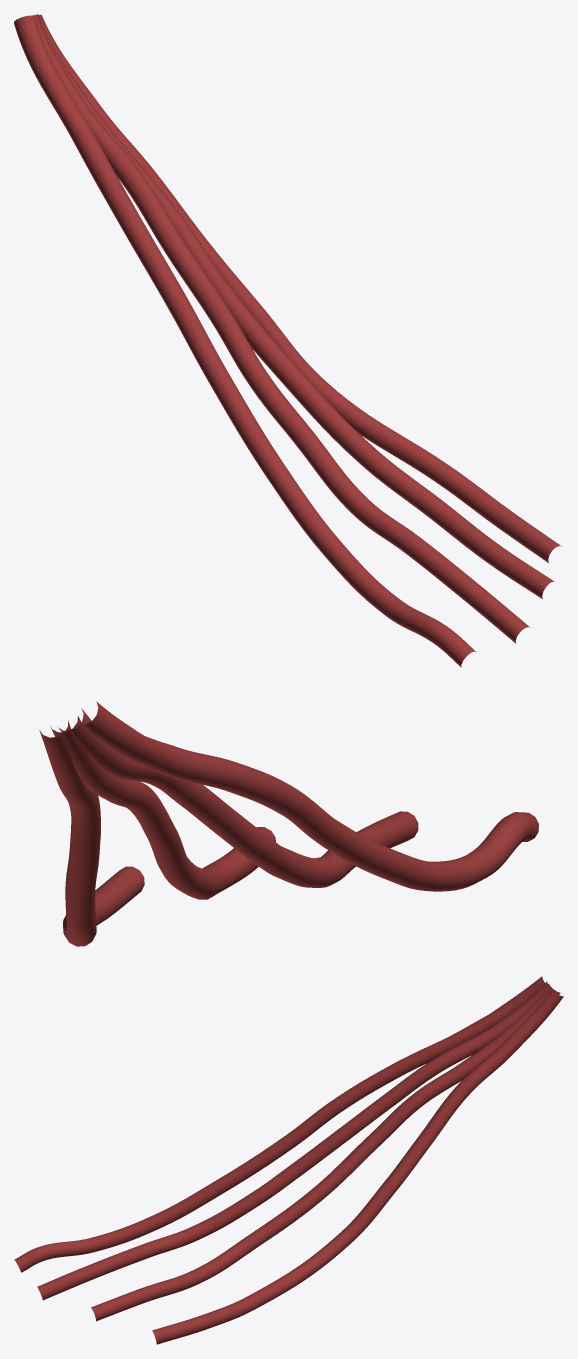
File: tendon-of-extensor-digitorum-longus-l.glb
3 views of the same model, one above another, from view 1: azimuth 30°, elevation 25°; view 2: azimuth 150°, elevation 25°; view 3: azimuth 270°, elevation 25° (orthographic). The views are drawn at different scales.
Visible parts, largest first — view 1: Tendon of extensor digitorum longus.l; view 2: Tendon of extensor digitorum longus.l; view 3: Tendon of extensor digitorum longus.l.
Boxes of the visible parts, bbox=[...] form: Tendon of extensor digitorum longus.l: bbox=[14, 14, 561, 667]; Tendon of extensor digitorum longus.l: bbox=[39, 701, 538, 946]; Tendon of extensor digitorum longus.l: bbox=[14, 976, 563, 1344].
Size of the model in its own units: 0.0571 by 0.0821 by 0.1445.
